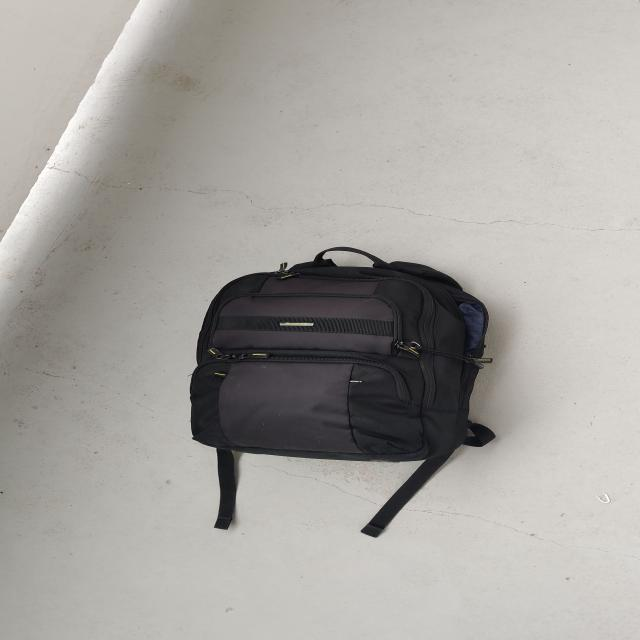backpack: (176, 239, 498, 473)
